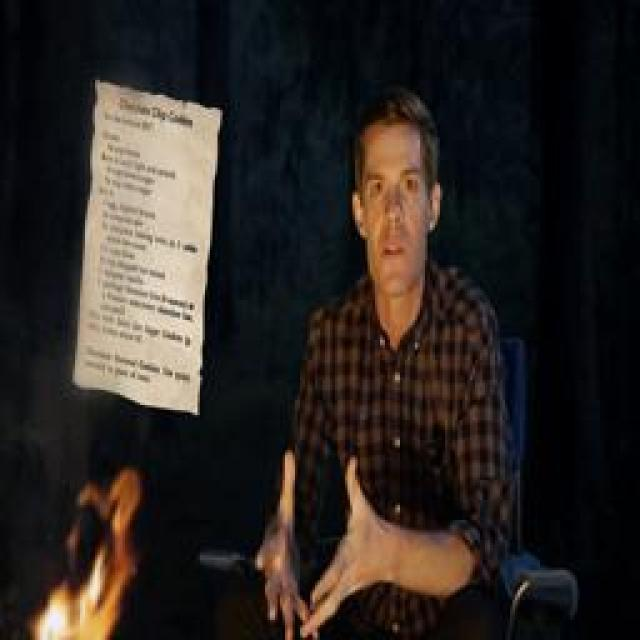Fire: (34, 470, 142, 640)
